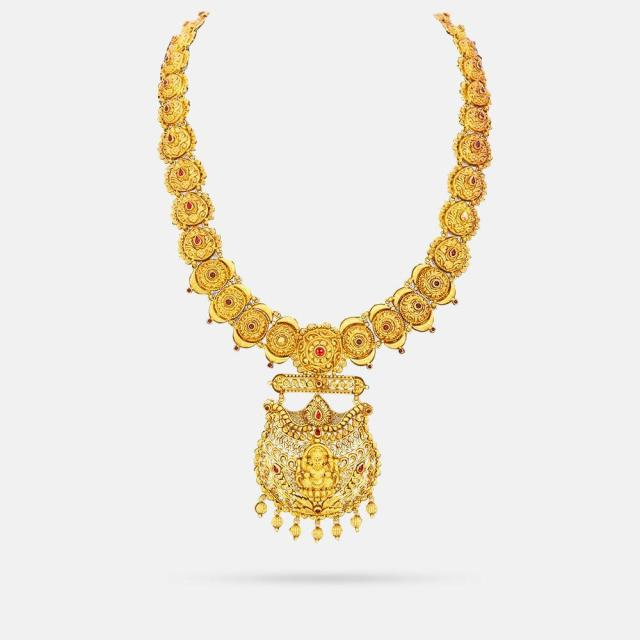missing gem: (461, 211, 468, 221), (278, 337, 285, 344)
